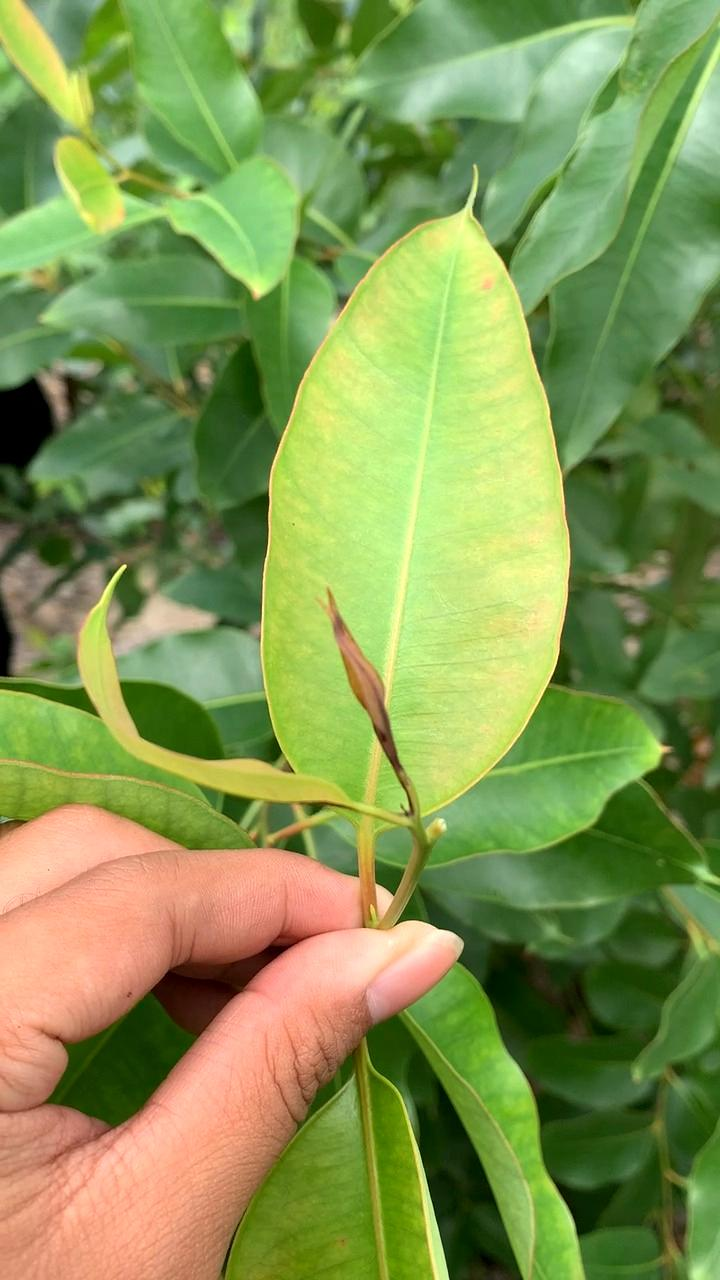Helopeltis-Withered Sprout: (310, 595, 439, 813)
